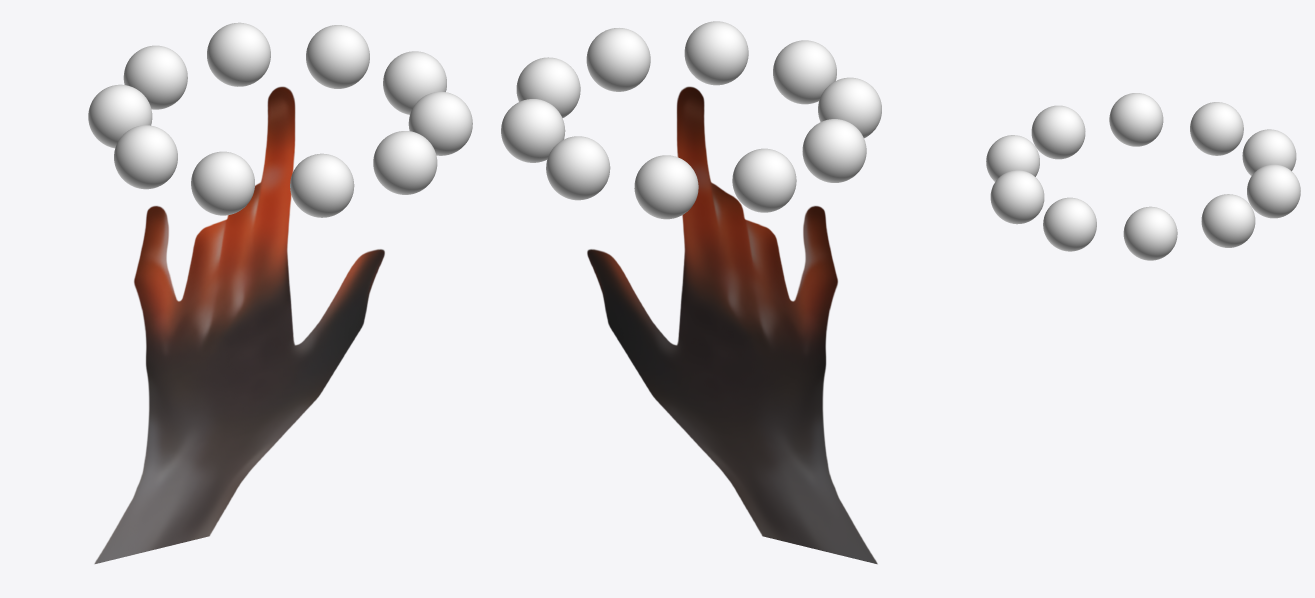
File: stamp.glb
3 renders of one model, left to right at view 1: azimuth 30°, elevation 25°; view 2: azimuth 150°, elevation 25°; view 3: azimuth 270°, elevation 25°, orthographic. The views are drawn at different scales.
Parts seen in each view (by area): view 1: Instagram, Sphere_3, Sphere_6, Sphere_4, Sphere_5, Sphere_9, Sphere_10, Sphere_8, Sphere_2, Sphere_7, Sphere_1; view 2: Instagram, Sphere_7, Sphere_8, Sphere_6, Sphere_9, Sphere_3, Sphere_2, Sphere_4, Sphere_10, Sphere_1, Sphere_5; view 3: Sphere_5, Sphere_3, Sphere_1, Sphere_6, Sphere_9, Sphere_2, Sphere_7, Sphere_10, Sphere_4, Sphere_8.
Part boxes in pixels (x1=…): Instagram: x1=94, y1=86, x2=384, y2=564; Sphere_3: x1=373, y1=131, x2=437, y2=194; Sphere_6: x1=114, y1=125, x2=177, y2=189; Sphere_4: x1=290, y1=153, x2=354, y2=217; Sphere_5: x1=191, y1=151, x2=254, y2=215; Sphere_9: x1=207, y1=22, x2=270, y2=86; Sphere_10: x1=306, y1=25, x2=369, y2=88; Sphere_8: x1=123, y1=45, x2=187, y2=109; Sphere_2: x1=408, y1=91, x2=472, y2=155; Sphere_7: x1=88, y1=84, x2=152, y2=148; Sphere_1: x1=383, y1=51, x2=446, y2=114; Instagram: x1=587, y1=86, x2=877, y2=564; Sphere_7: x1=732, y1=148, x2=796, y2=212; Sphere_8: x1=634, y1=155, x2=698, y2=219; Sphere_6: x1=802, y1=119, x2=866, y2=182; Sphere_9: x1=546, y1=136, x2=610, y2=200; Sphere_3: x1=684, y1=21, x2=748, y2=85; Sphere_2: x1=586, y1=28, x2=650, y2=91; Sphere_4: x1=773, y1=40, x2=836, y2=104; Sphere_10: x1=501, y1=99, x2=565, y2=162; Sphere_1: x1=516, y1=57, x2=580, y2=117; Sphere_5: x1=818, y1=77, x2=881, y2=138; Sphere_5: x1=1031, y1=105, x2=1085, y2=159; Sphere_3: x1=990, y1=170, x2=1044, y2=224; Sphere_1: x1=1123, y1=206, x2=1177, y2=260; Sphere_6: x1=1109, y1=93, x2=1163, y2=146; Sphere_9: x1=1247, y1=164, x2=1300, y2=218; Sphere_2: x1=1043, y1=197, x2=1096, y2=251; Sphere_7: x1=1190, y1=102, x2=1243, y2=155; Sphere_10: x1=1201, y1=194, x2=1255, y2=247; Sphere_4: x1=986, y1=135, x2=1039, y2=181; Sphere_8: x1=1242, y1=129, x2=1296, y2=175.
Size of the model in its own units: 15.89 by 15.89 by 11.66.
Materials: 11 (1 with a texture image).
